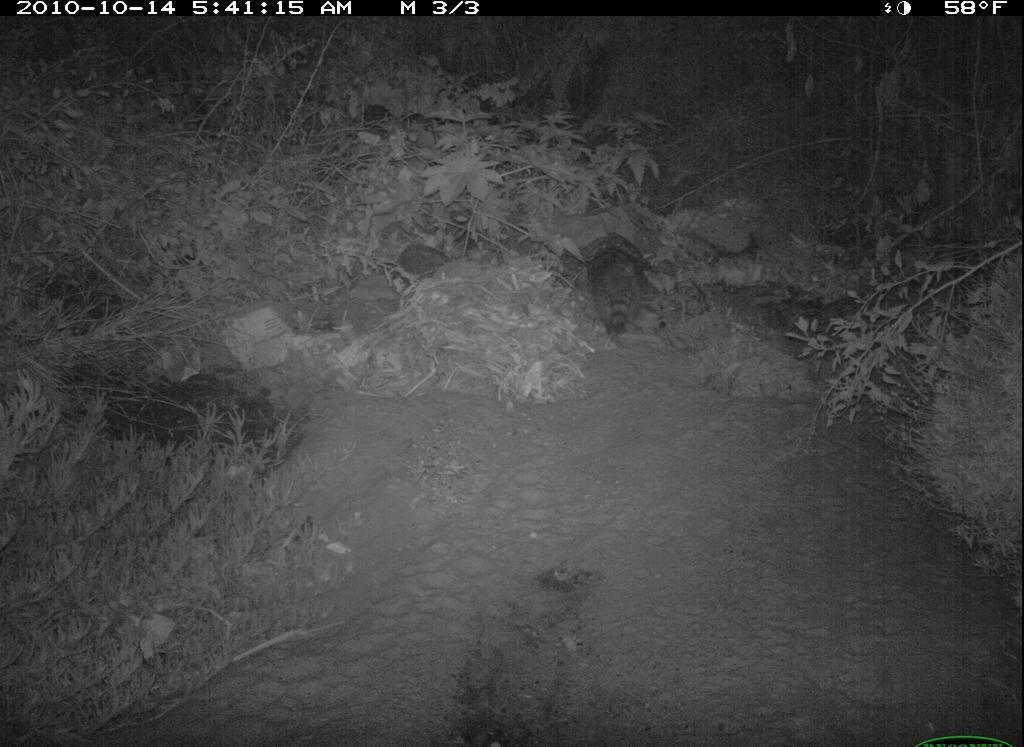raccoon: (577, 240, 655, 353)
